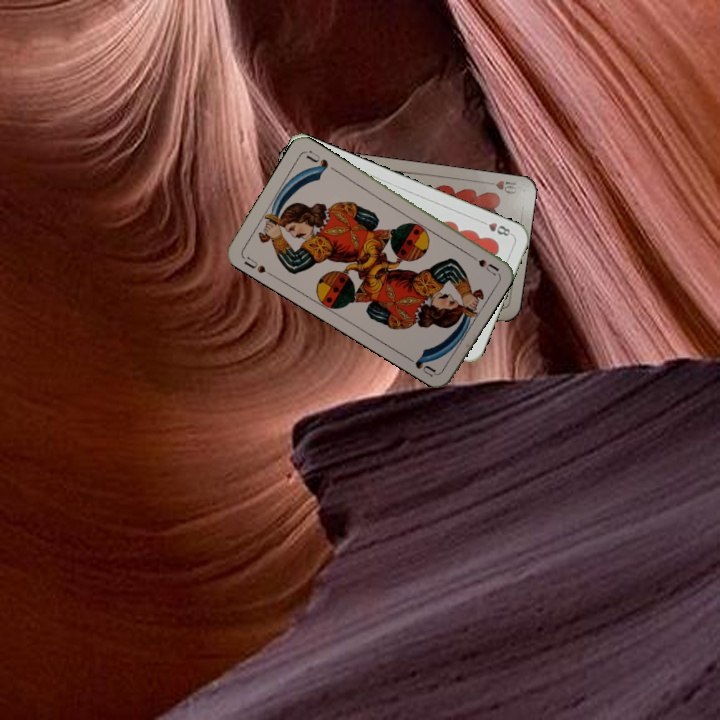H10: (481, 176, 520, 197)
H8: (476, 217, 515, 239)
SU: (463, 248, 501, 277), (239, 253, 268, 276)
